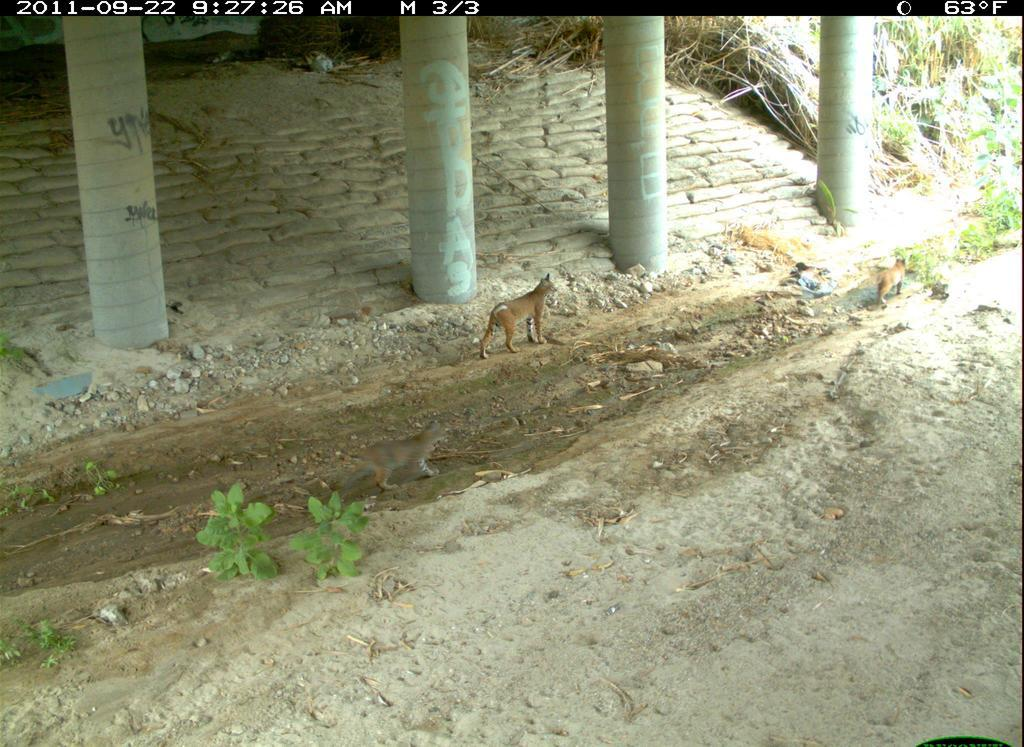bobcat: (950, 538, 1024, 732)
